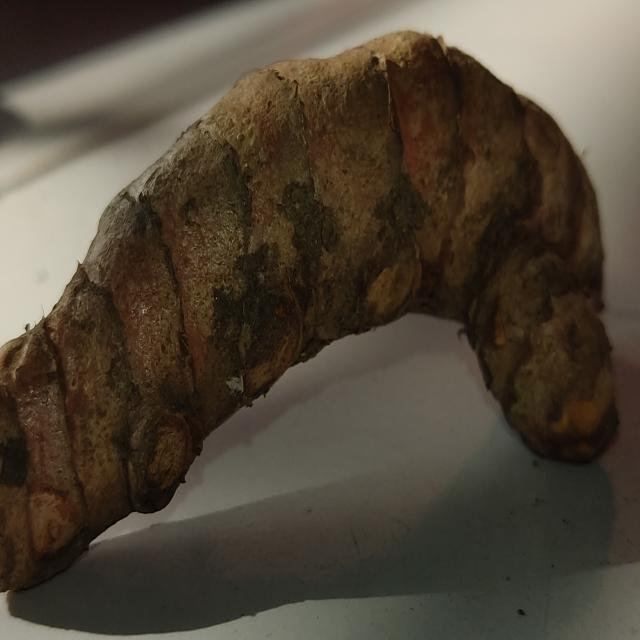ginger: (1, 29, 616, 548)
